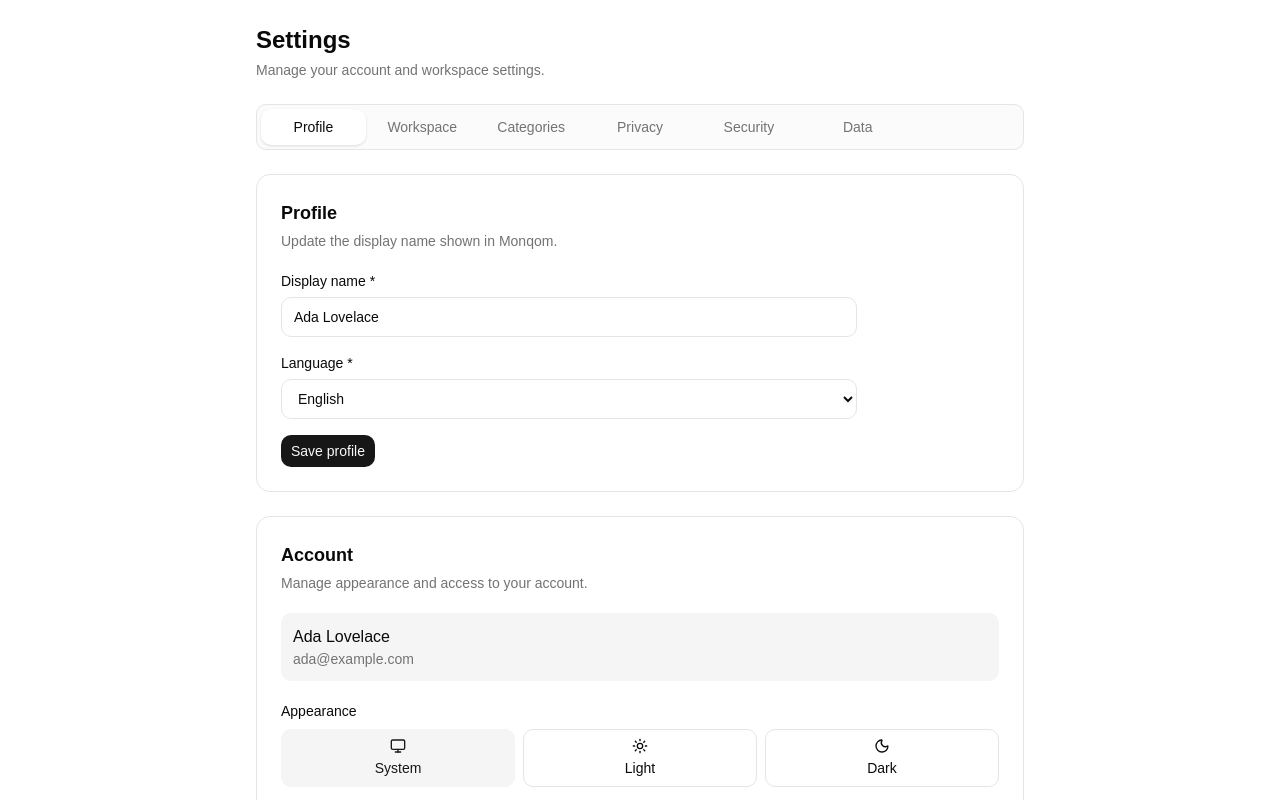
Test: SettingsPage › saves the salary privacy preference in its own settings tab
Click the button "Privacy": (640, 127) [588,109,692,145]
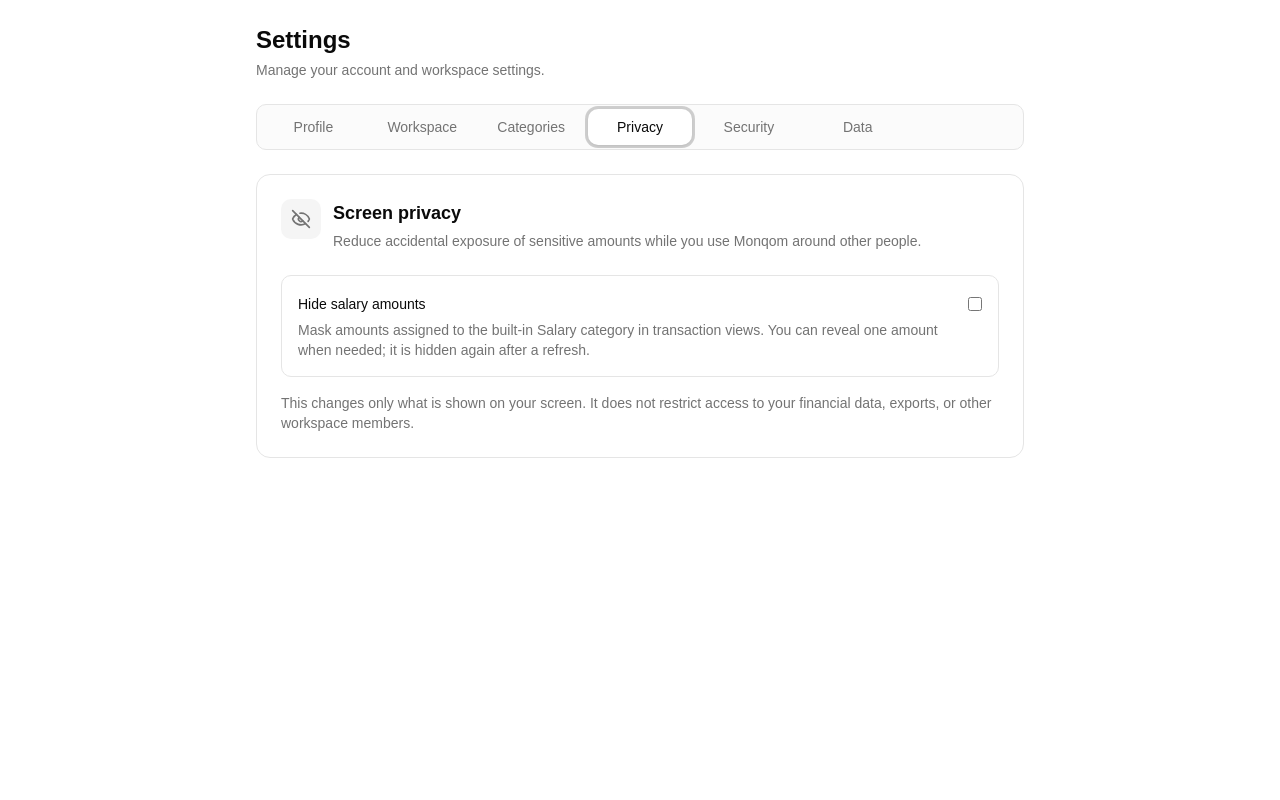
Now the switch labelled "Hide salary amounts" is not checked
Click the switch labelled "Hide salary amounts": (975, 304) [968,294,982,314]
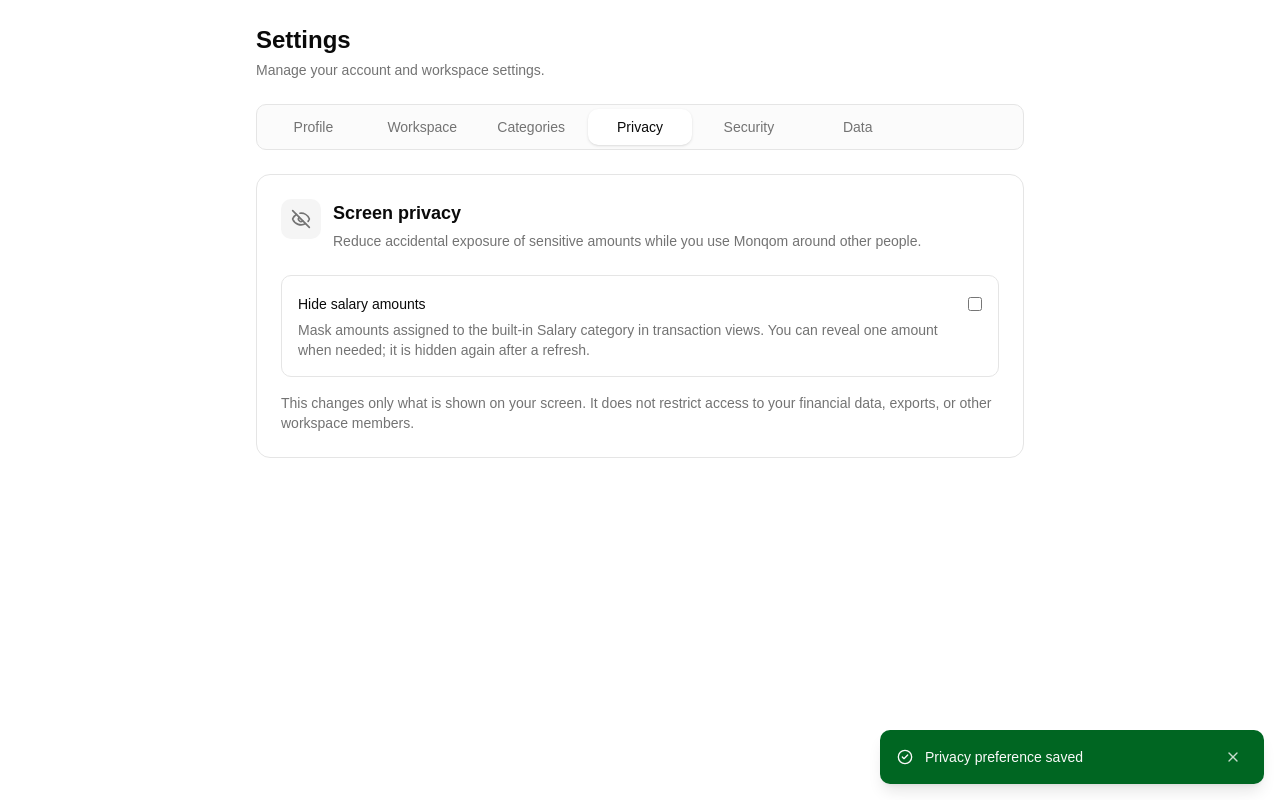
Now the message reads "Privacy preference saved", box [925,749,1083,765]
